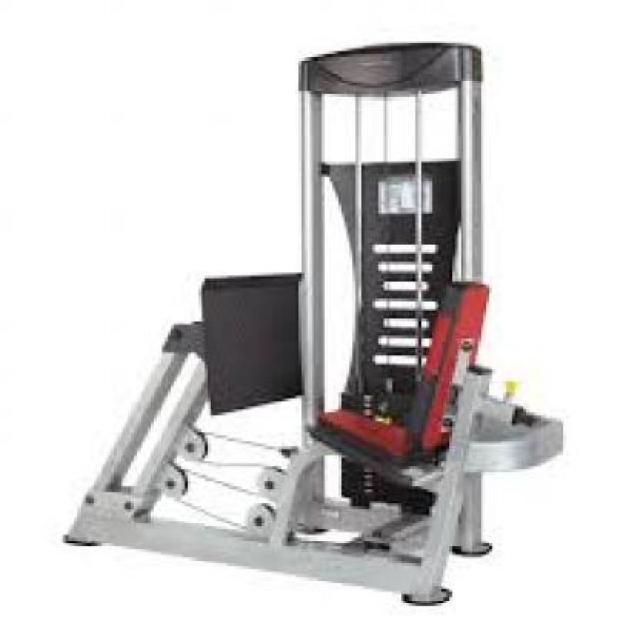leg press: (60, 32, 575, 610)
